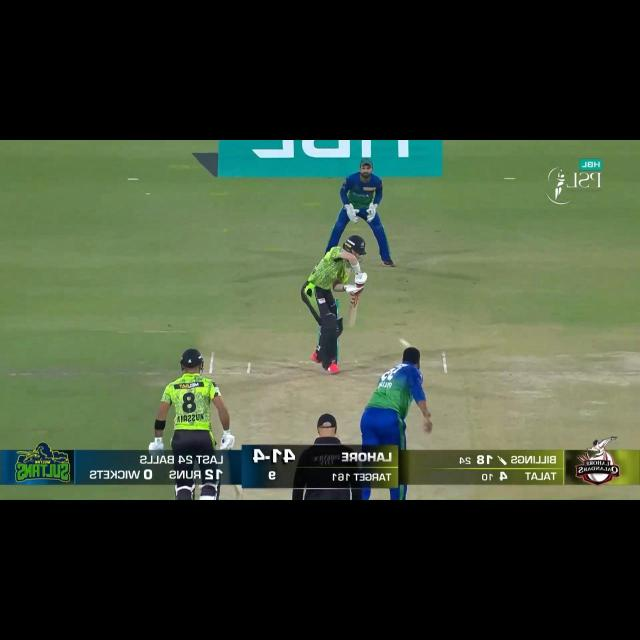bat: (347, 290, 360, 331)
toe: (232, 486, 246, 498), (346, 318, 358, 331)
